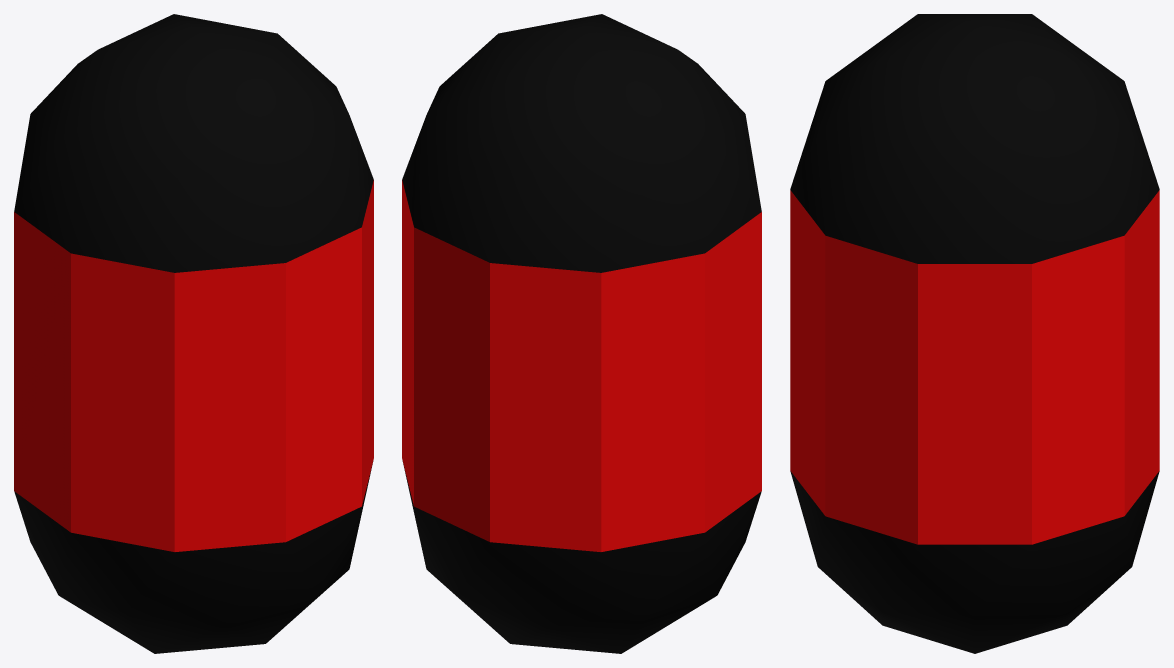
Rendered from Nitro.FBX.
3 renders of one model, left to right at view 1: azimuth 30°, elevation 25°; view 2: azimuth 150°, elevation 25°; view 3: azimuth 270°, elevation 25°, orthographic.
Visible parts, largest first — view 1: Object001, Object002, Object003; view 2: Object001, Object002, Object003; view 3: Object001, Object002, Object003.
Part boxes in pixels (box(x1,y1,x2,y2)): Object001: box(14, 180, 373, 551); Object002: box(14, 14, 373, 272); Object003: box(14, 461, 373, 653); Object001: box(402, 180, 761, 551); Object002: box(402, 14, 761, 272); Object003: box(402, 461, 761, 653); Object001: box(790, 190, 1159, 544); Object002: box(790, 14, 1159, 263); Object003: box(790, 471, 1159, 653).
Size of the model in its own units: 39.73 by 76.77 by 41.77.
